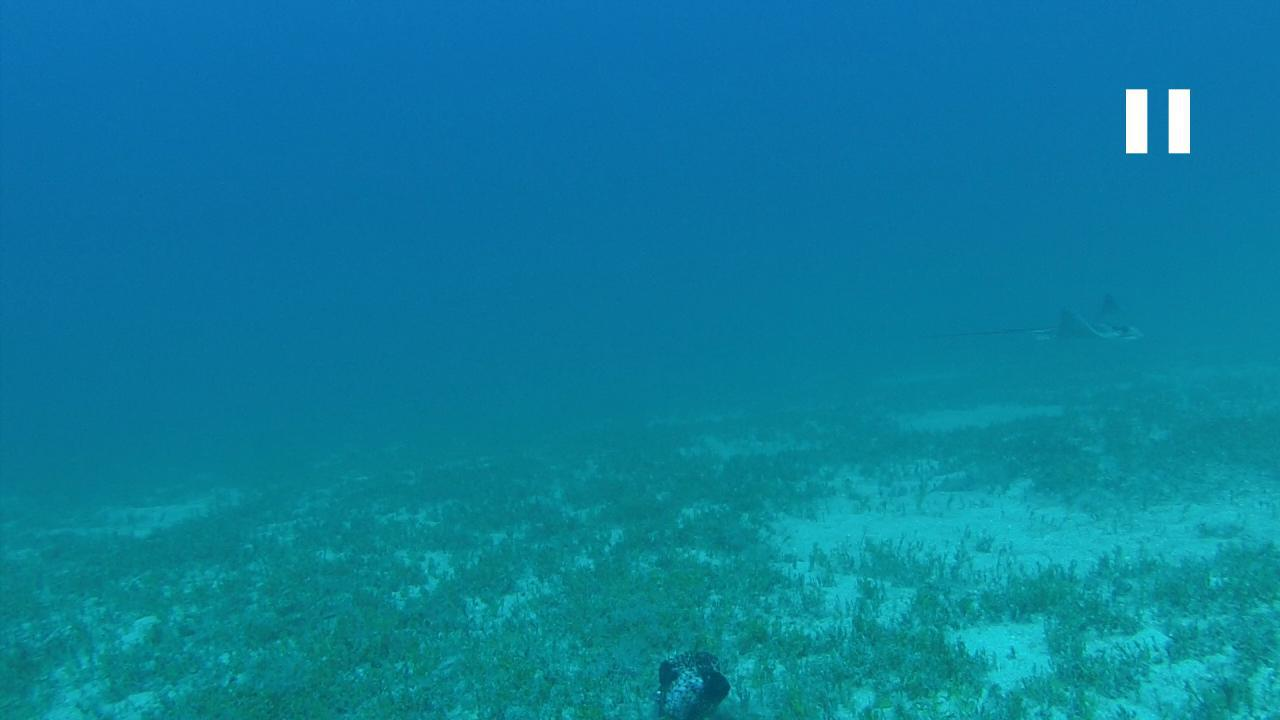dasyatis: (908, 287, 1146, 343)
